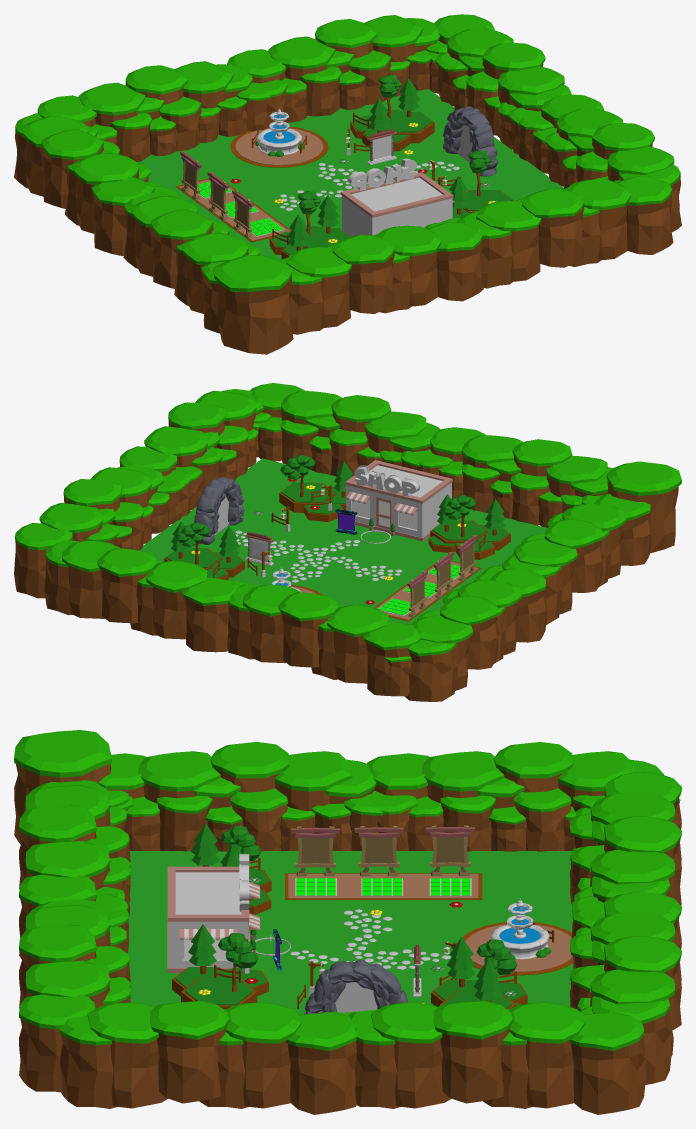
The model's file is Select_Map.fbx.
3 views of the same model, one above another, from view 1: azimuth 30°, elevation 25°; view 2: azimuth 150°, elevation 25°; view 3: azimuth 270°, elevation 25° (orthographic). The views are drawn at different scales.
Parts seen in each view (by area): view 1: Select_Map; view 2: Select_Map; view 3: Select_Map.
Boxes of the visible parts, <box> form: Select_Map: <box>14,14,681,354</box>; Select_Map: <box>14,383,681,701</box>; Select_Map: <box>14,730,681,1114</box>.
Size of the model in its own units: 28131 by 4259 by 26296.
